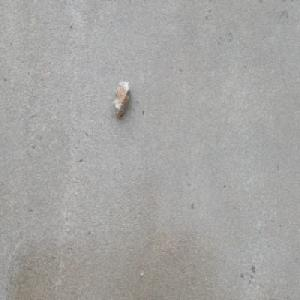Rock: (112, 79, 131, 118)
